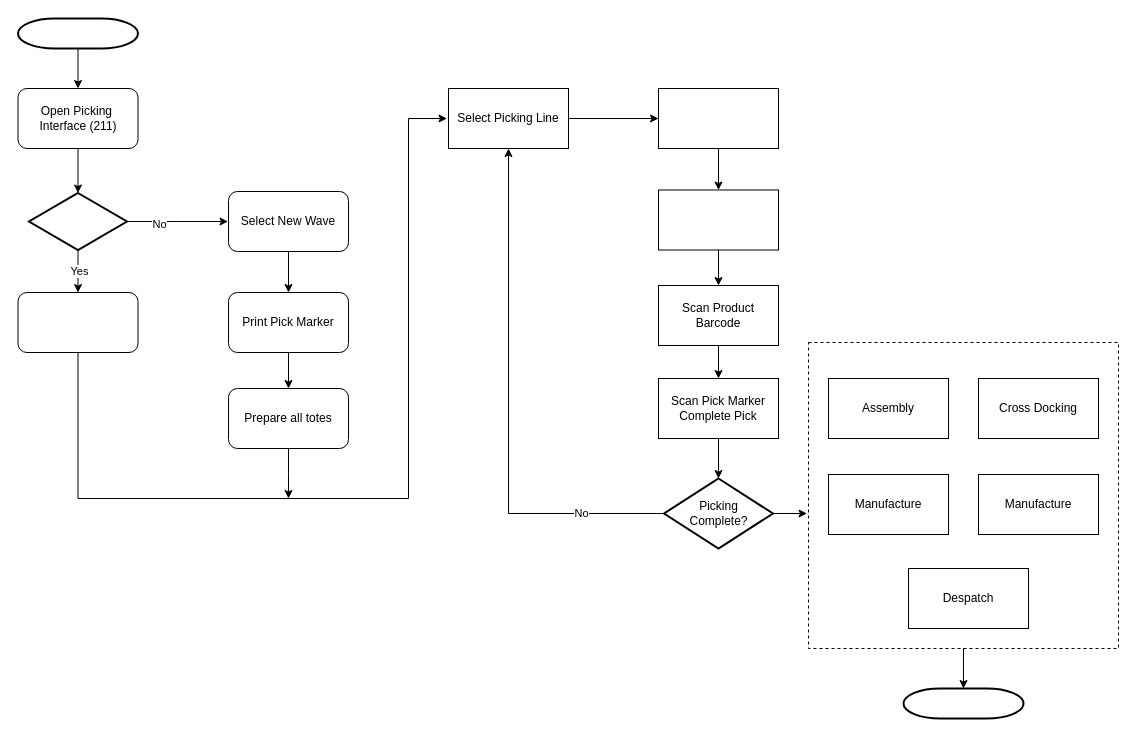
This 1136x736 diagram has some shape labels left out. Here are the shapes that lost their labels. From the top down, the centre of each, then its label:
(77,33): start
(718,118): Review Product Locations
(78,221): Existing Wave?
(718,219): Select Picking Location
(77,322): Select Wave
(963,703): end
